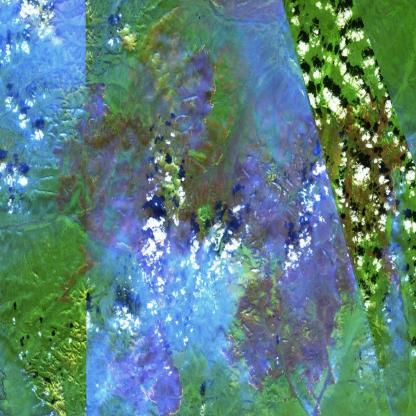fire: (197, 63, 223, 132), (388, 154, 410, 223), (382, 247, 410, 300), (89, 77, 113, 118), (207, 206, 236, 237), (195, 42, 215, 60)
